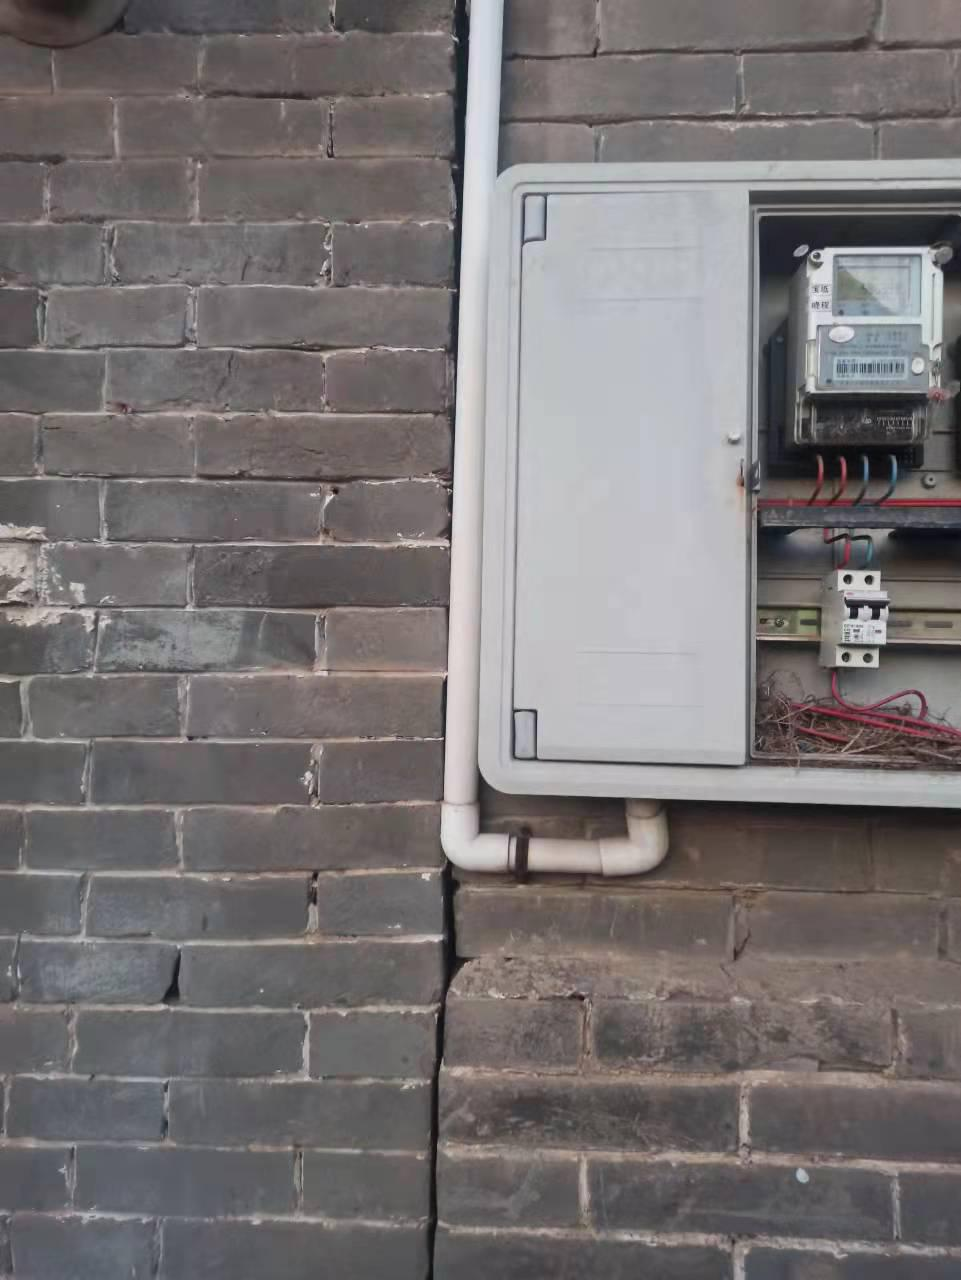digital: (806, 248, 940, 393)
